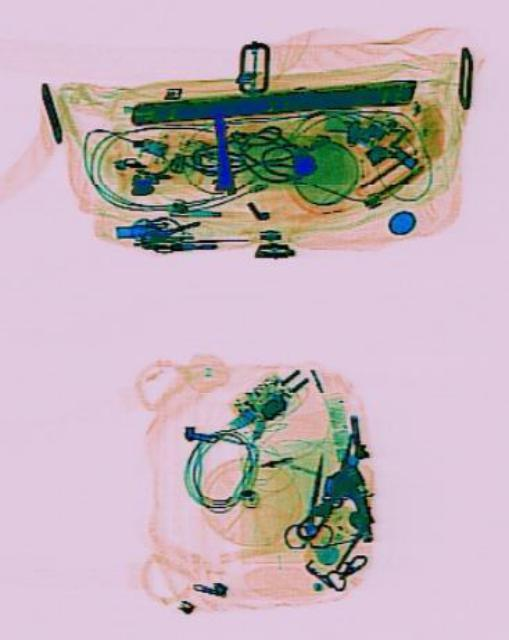Scissors: (279, 448, 339, 552)
